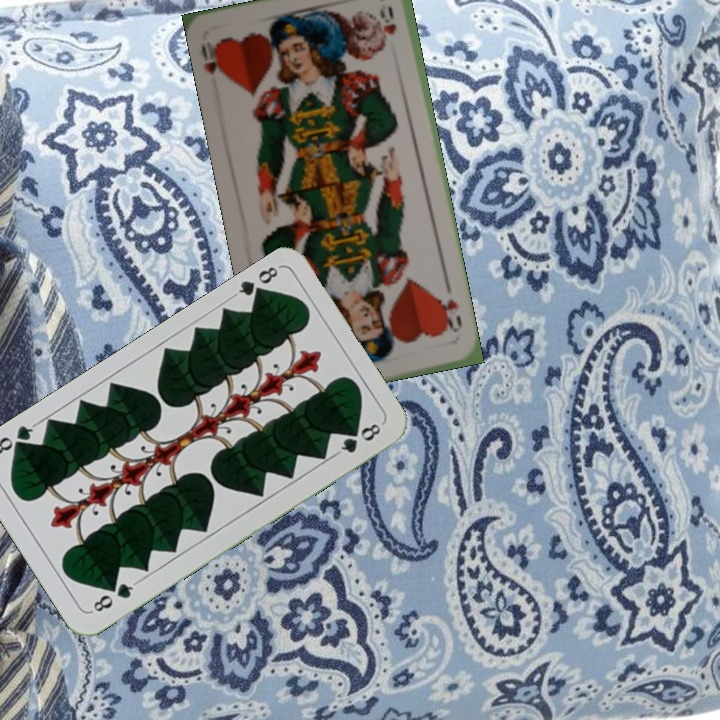G8: (229, 262, 282, 304), (87, 577, 140, 615)
HO: (197, 38, 229, 83), (435, 294, 465, 335)
